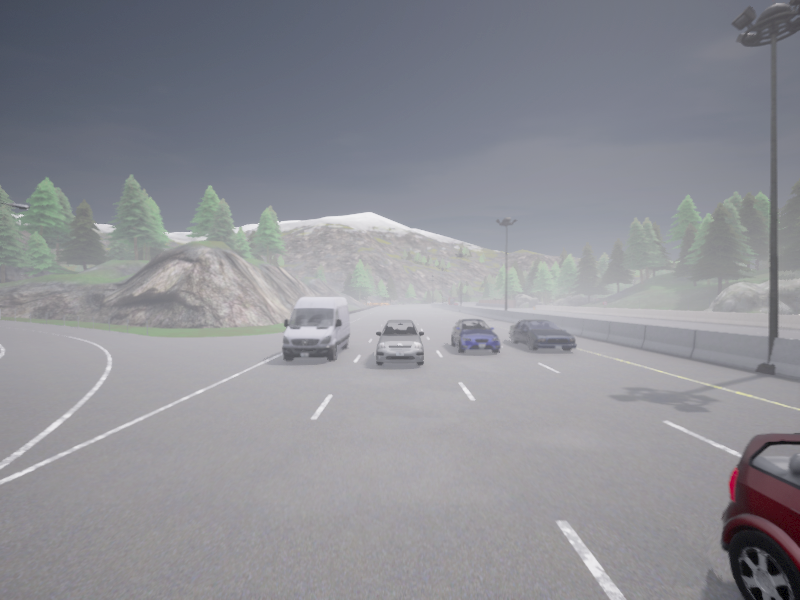vehicle: (720, 433, 799, 599), (282, 297, 349, 361), (376, 319, 423, 366), (508, 319, 576, 351), (451, 319, 500, 353), (447, 297, 454, 304), (452, 302, 457, 305), (443, 302, 447, 304)
